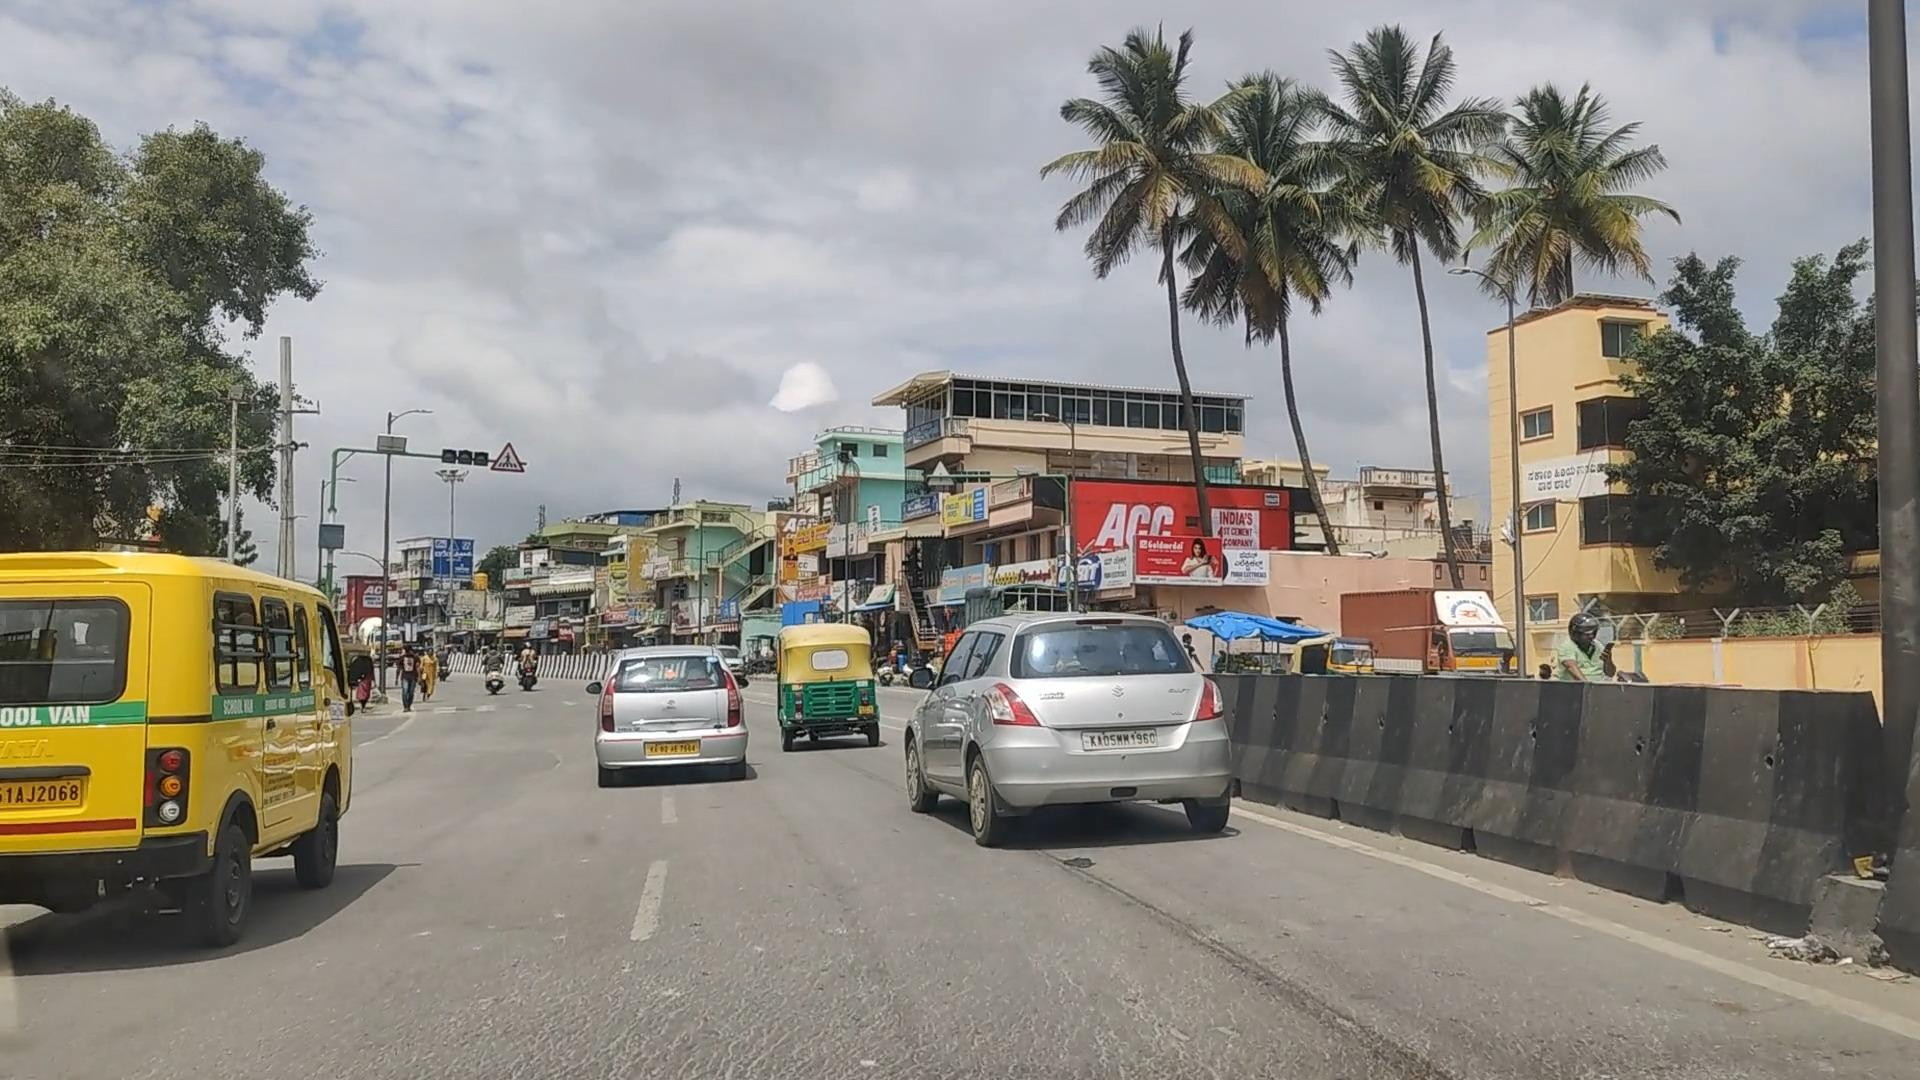LMV: (0, 463, 356, 1004), (897, 587, 1276, 860), (588, 626, 778, 832), (767, 608, 926, 807)
